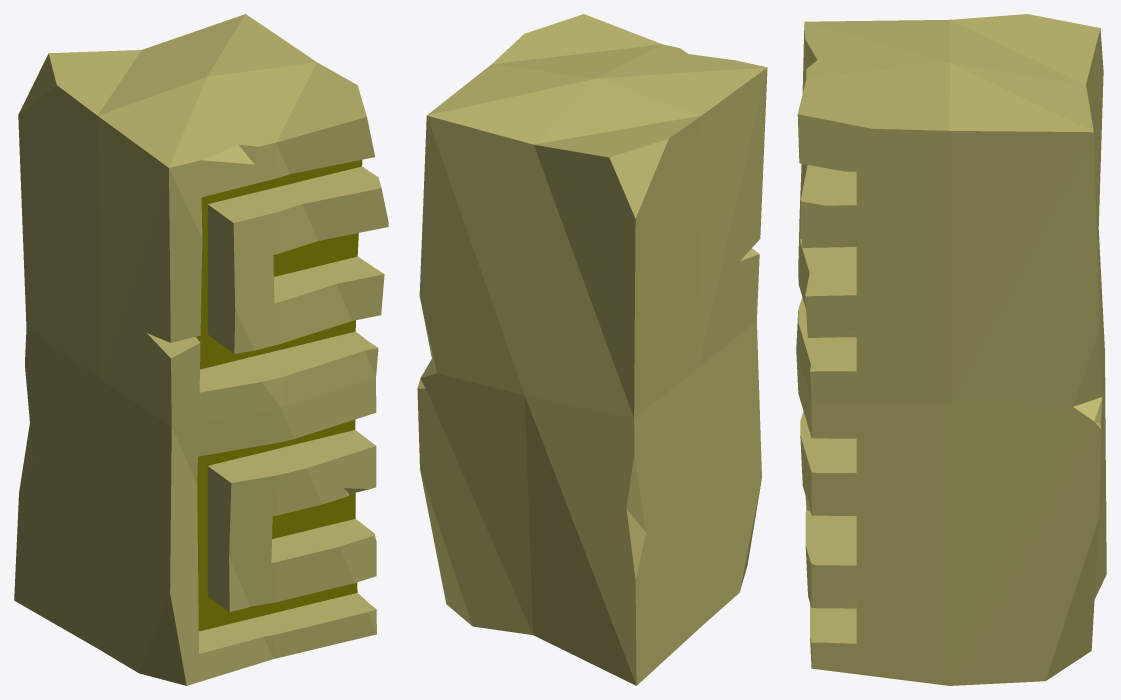
Rendered from Prop_Jungle_Temple_Pillar_Block_Markings_01.FBX.
3 renders of one model, left to right at view 1: azimuth 30°, elevation 25°; view 2: azimuth 150°, elevation 25°; view 3: azimuth 270°, elevation 25°, orthographic. The views are drawn at different scales.
Visible parts, largest first — view 1: Prop_Jungle_Temple_Pillar_Block_Markings_01; view 2: Prop_Jungle_Temple_Pillar_Block_Markings_01; view 3: Prop_Jungle_Temple_Pillar_Block_Markings_01.
Boxes of the visible parts, x1,y1,x2,y2 form: Prop_Jungle_Temple_Pillar_Block_Markings_01: [14, 14, 388, 685]; Prop_Jungle_Temple_Pillar_Block_Markings_01: [417, 14, 767, 685]; Prop_Jungle_Temple_Pillar_Block_Markings_01: [796, 14, 1106, 685].
Size of the model in its own units: 1696 by 3848 by 1897.
